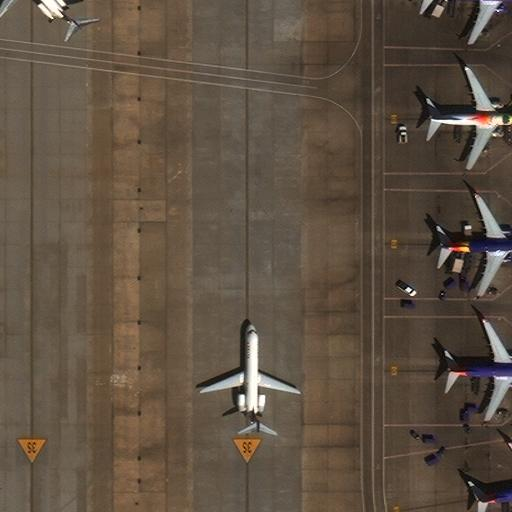Medium Civil Transport: (201, 323, 300, 434), (428, 67, 512, 169), (441, 194, 512, 293), (448, 319, 512, 420), (432, 0, 512, 43), (0, 0, 81, 30), (477, 444, 512, 512)
